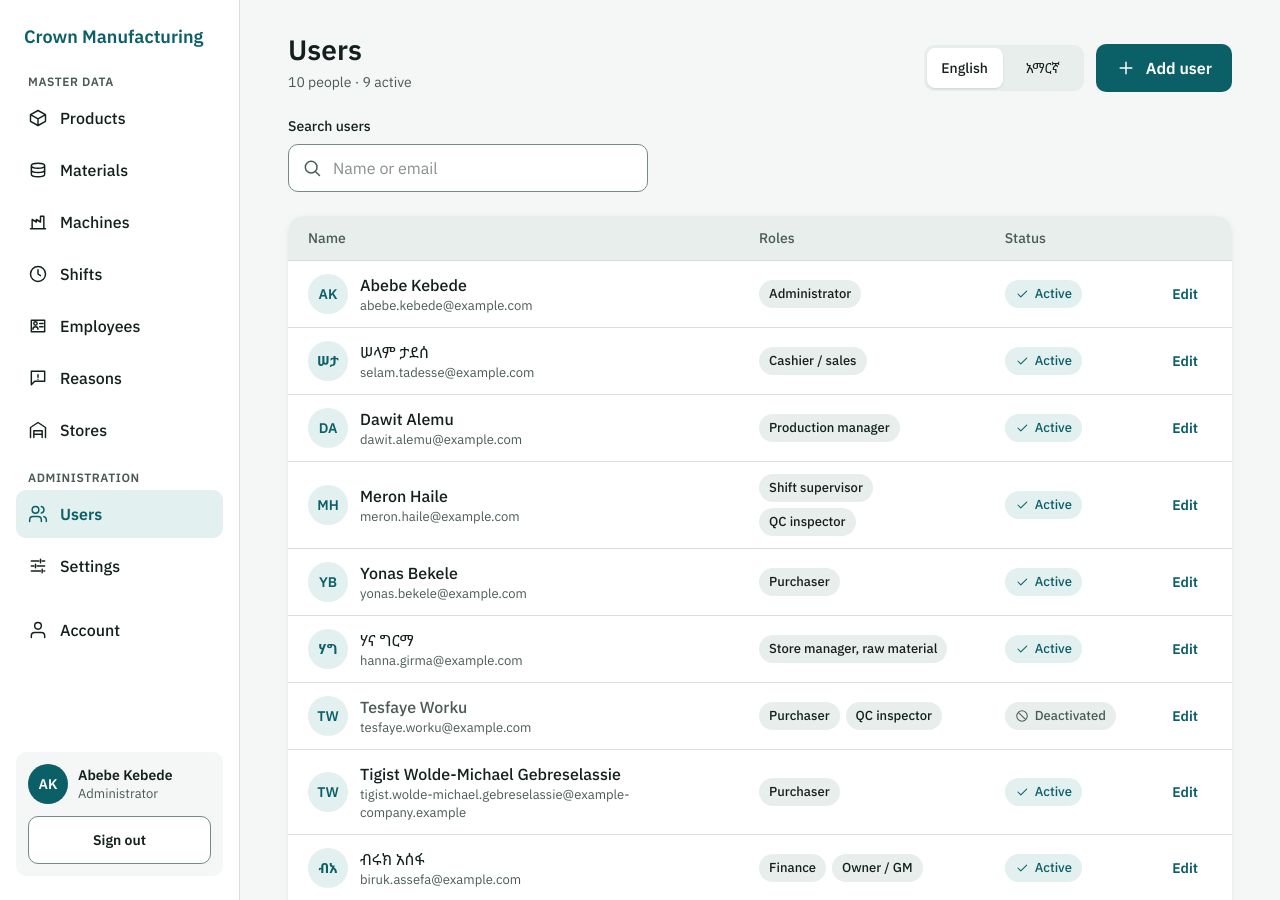
Test: editing a user › shows the email read-only, the roles with descriptions, and saves only what changed
Click the button with aria-label "Edit Meron Haile". click: click(1185, 505)
box: [1158, 483, 1212, 527]
(page scrolled)
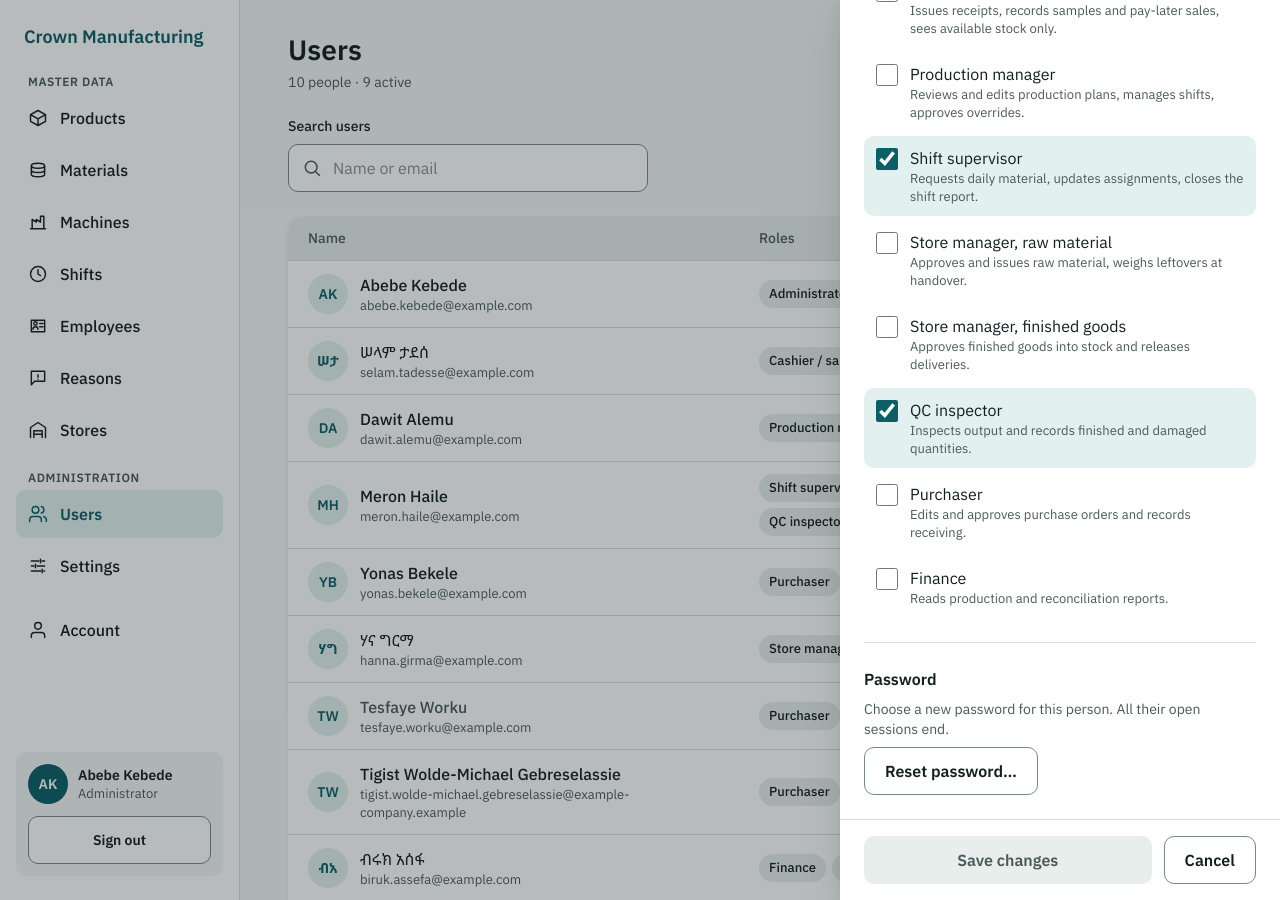
Expected: the checkbox labelled "Shift supervisor" is checked, [876, 148, 898, 170]
Expected: the checkbox labelled "Purchaser" is not checked
Expected: the text "Edits and approves purchase orders and records receiving." is shown, [910, 506, 1191, 541]
Click the checkbox labelled "Purchaser". click: click(887, 495)
box: [876, 484, 898, 506]
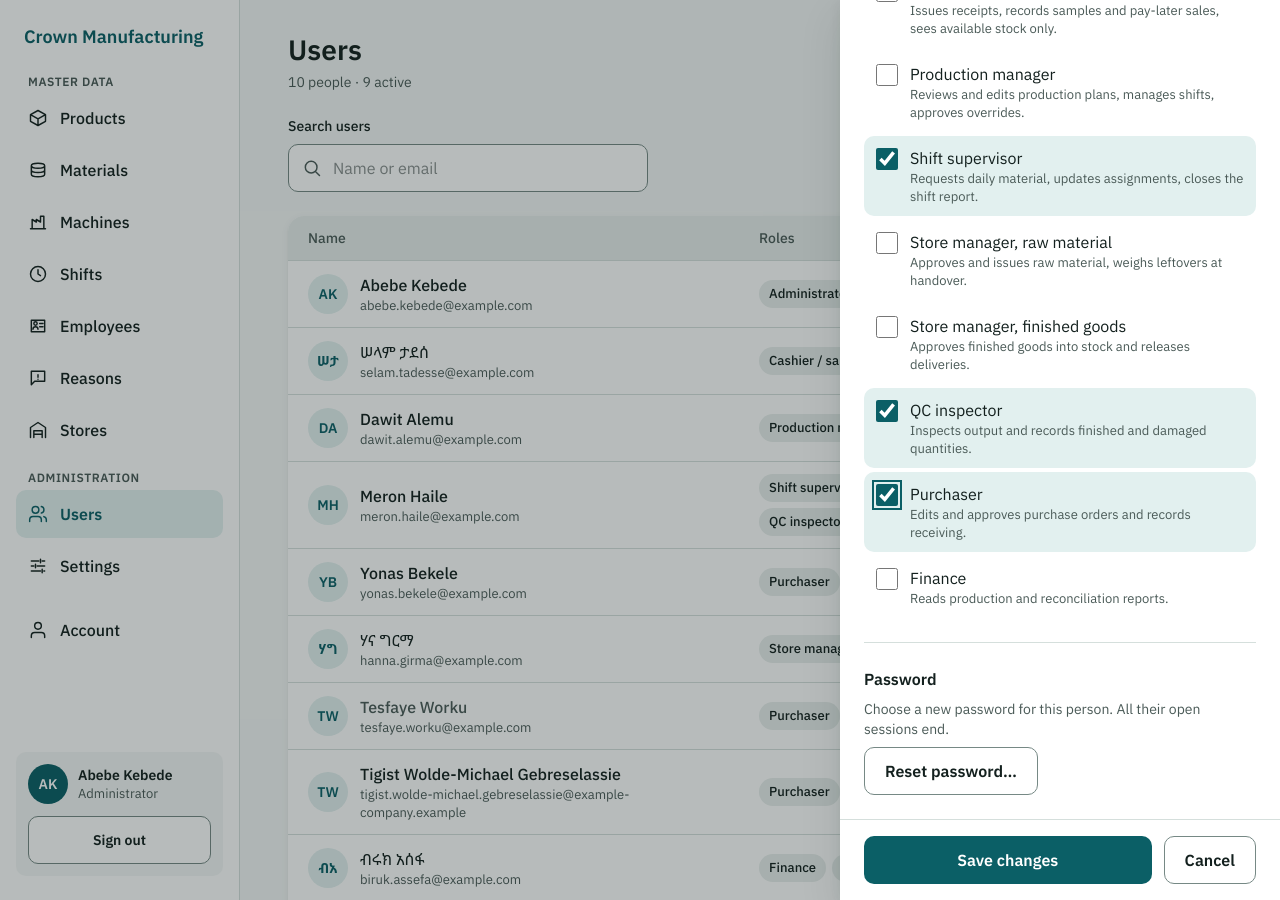
Click the checkbox labelled "QC inspector". click: click(887, 411)
box: [876, 400, 898, 422]
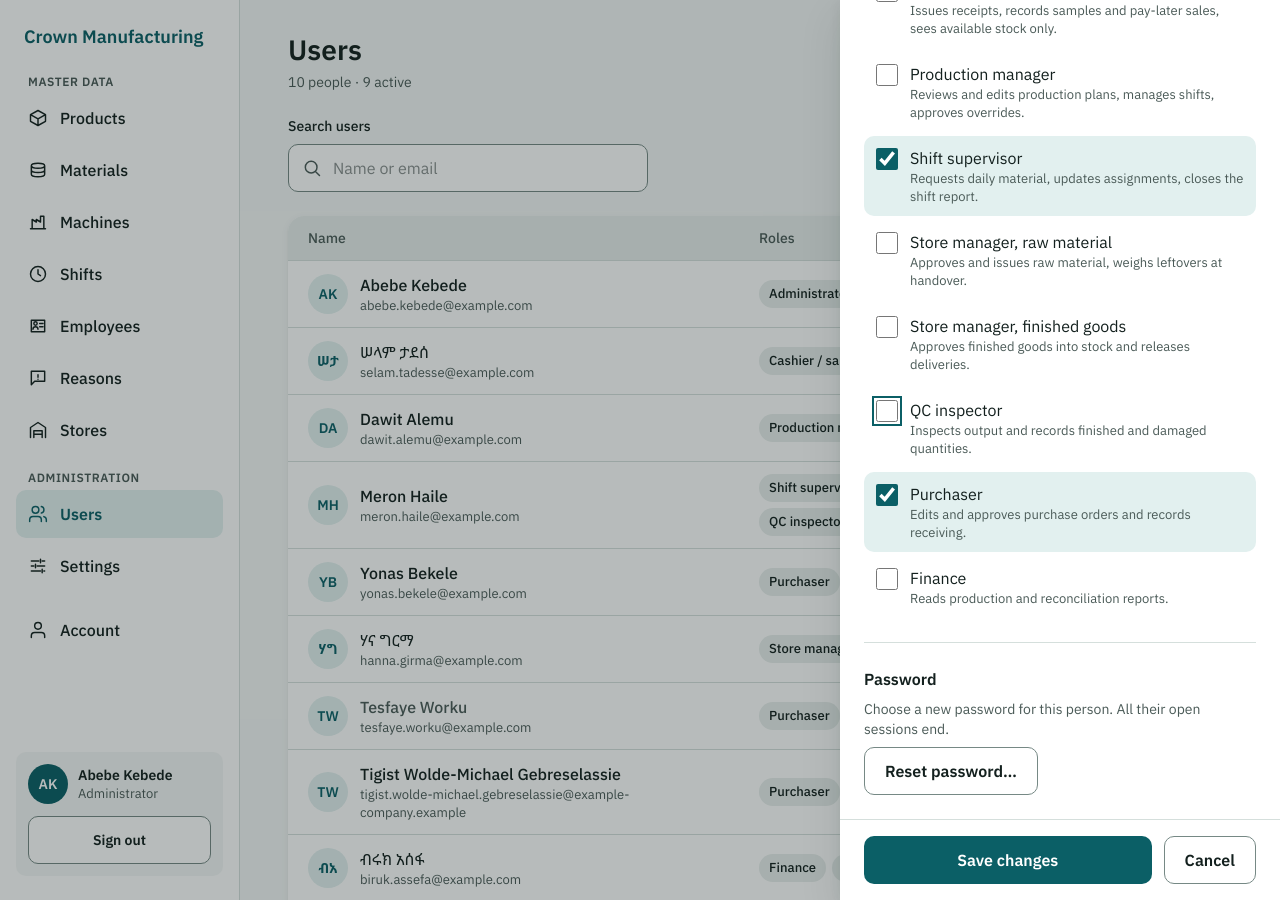
Expected: the button "Save changes" is enabled
Click the button "Save changes". click: click(1008, 860)
box: [864, 836, 1152, 884]
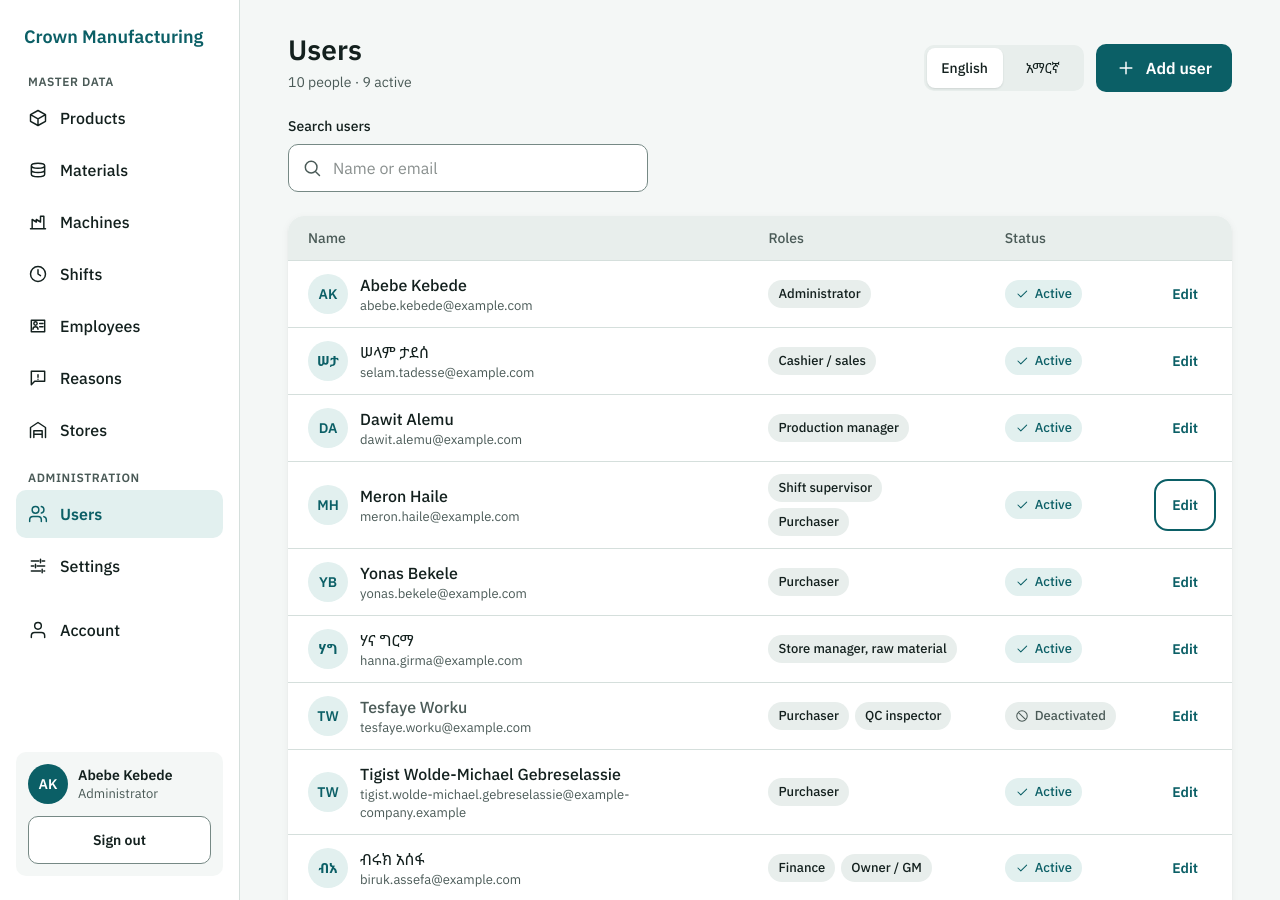
Expected: the dialog is gone
Expected: the text "Purchaser" below "Shift supervisor" is shown, [778, 513, 839, 530]
